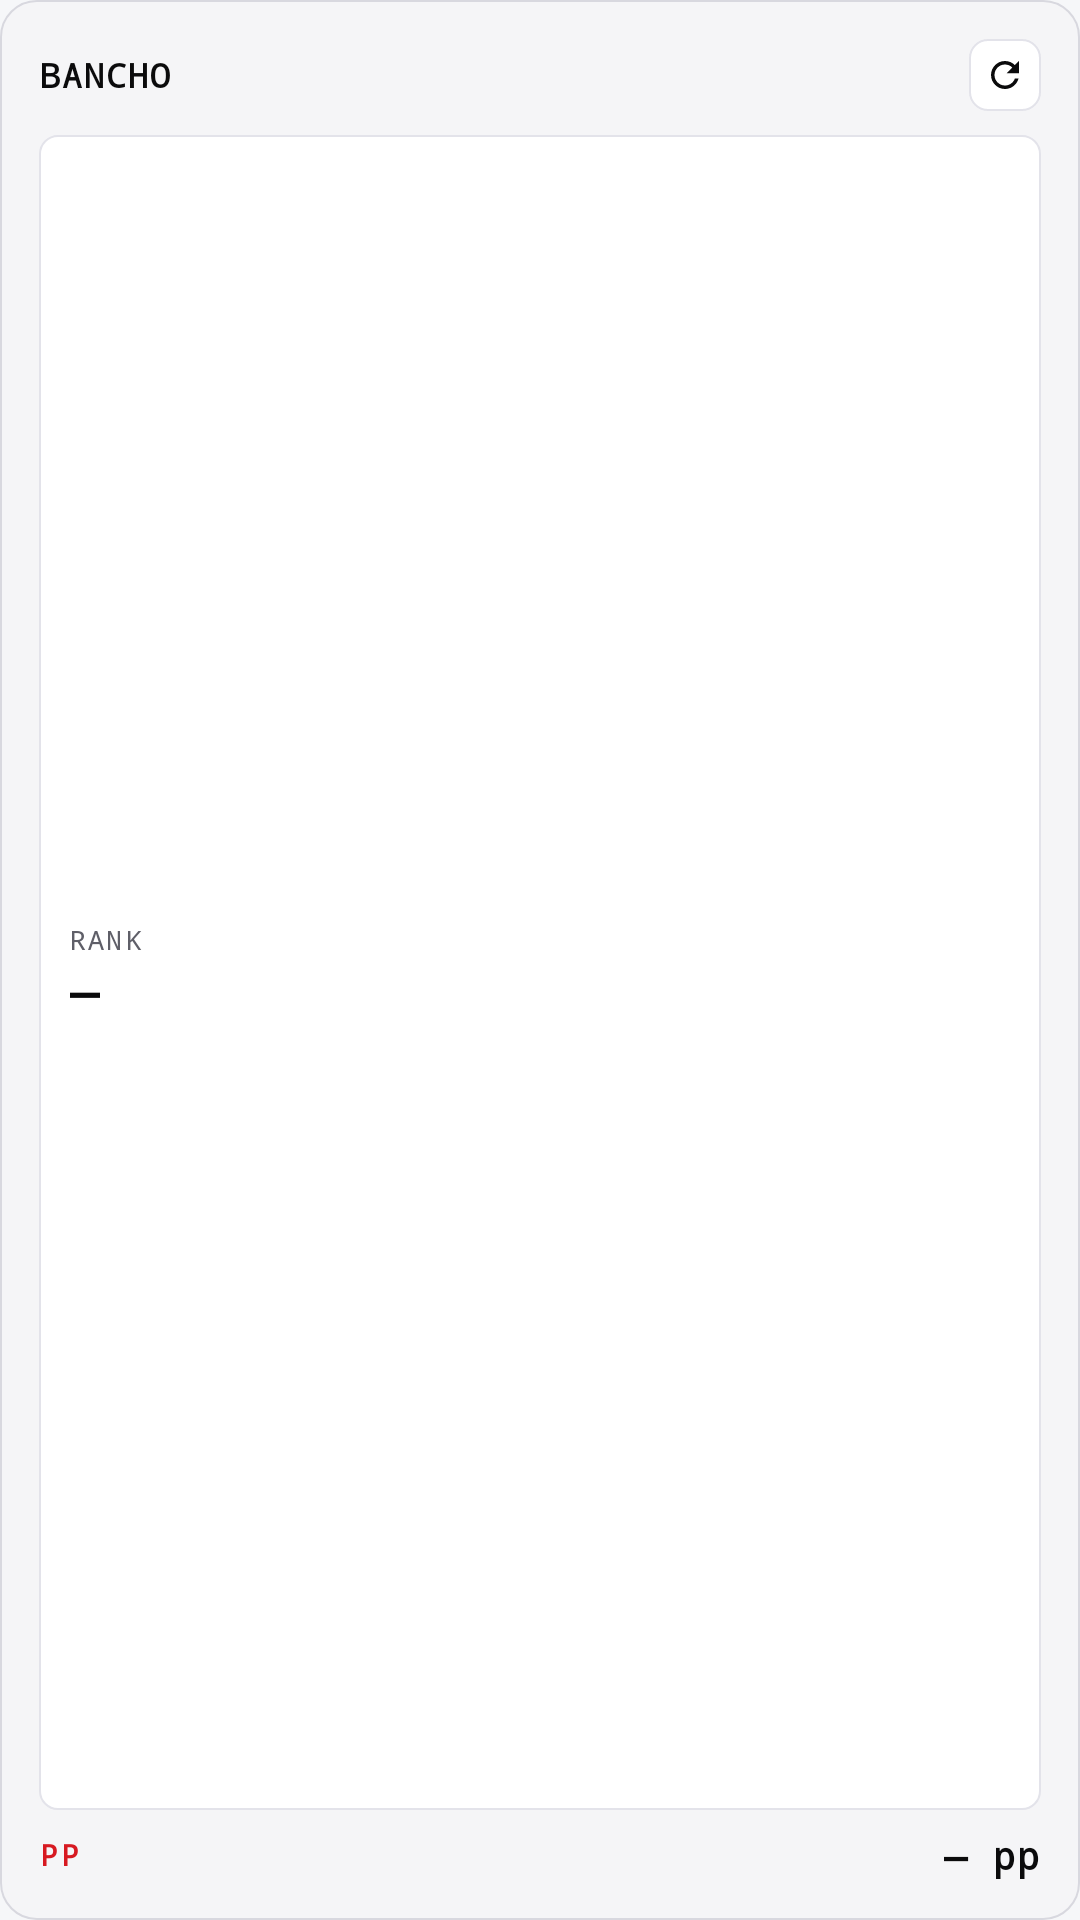

Named icons in this screenshot (1080w x 1920h) and their centers, point (x, y):
Refresh stats: point (1005, 75)
